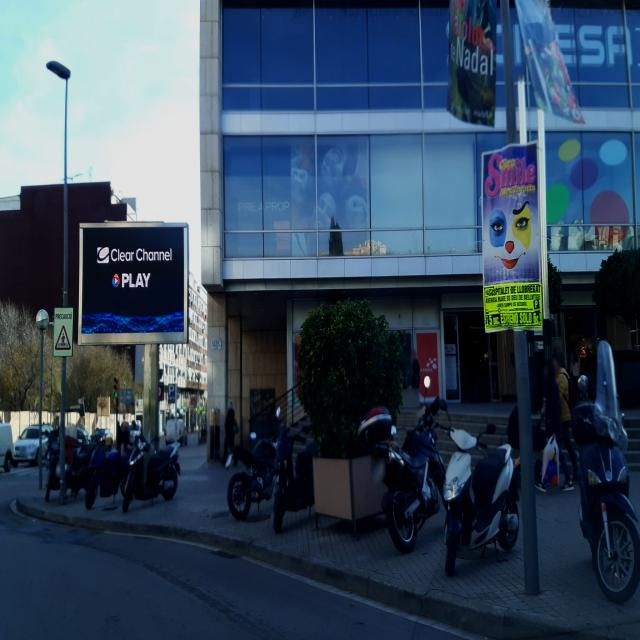bike: (383, 397, 499, 557), (575, 386, 640, 607), (442, 398, 521, 576), (386, 396, 456, 556), (272, 412, 318, 534), (226, 434, 285, 524), (122, 434, 178, 511), (44, 425, 88, 499), (85, 448, 129, 510)
car: (13, 425, 50, 467), (0, 421, 15, 475), (89, 427, 114, 449)
